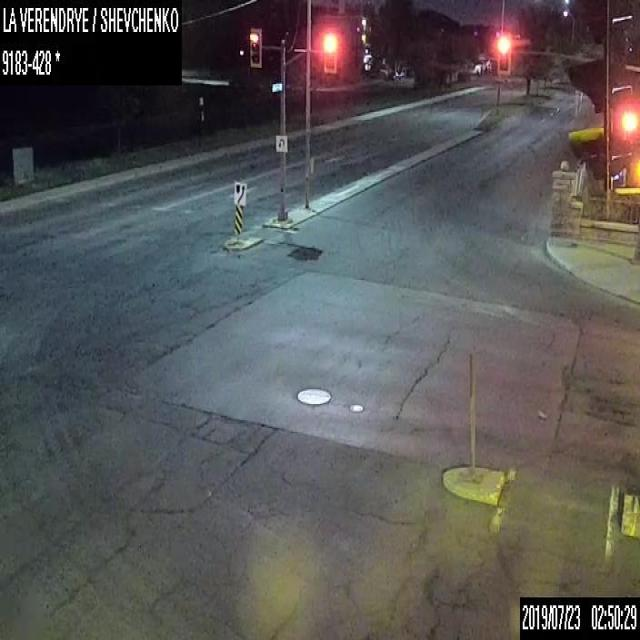vehicle: (392, 70, 404, 80)
